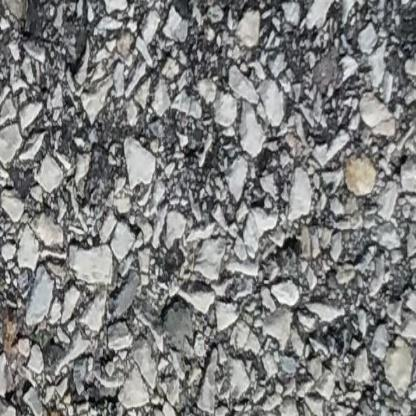Cracks: (176, 0, 248, 11)
